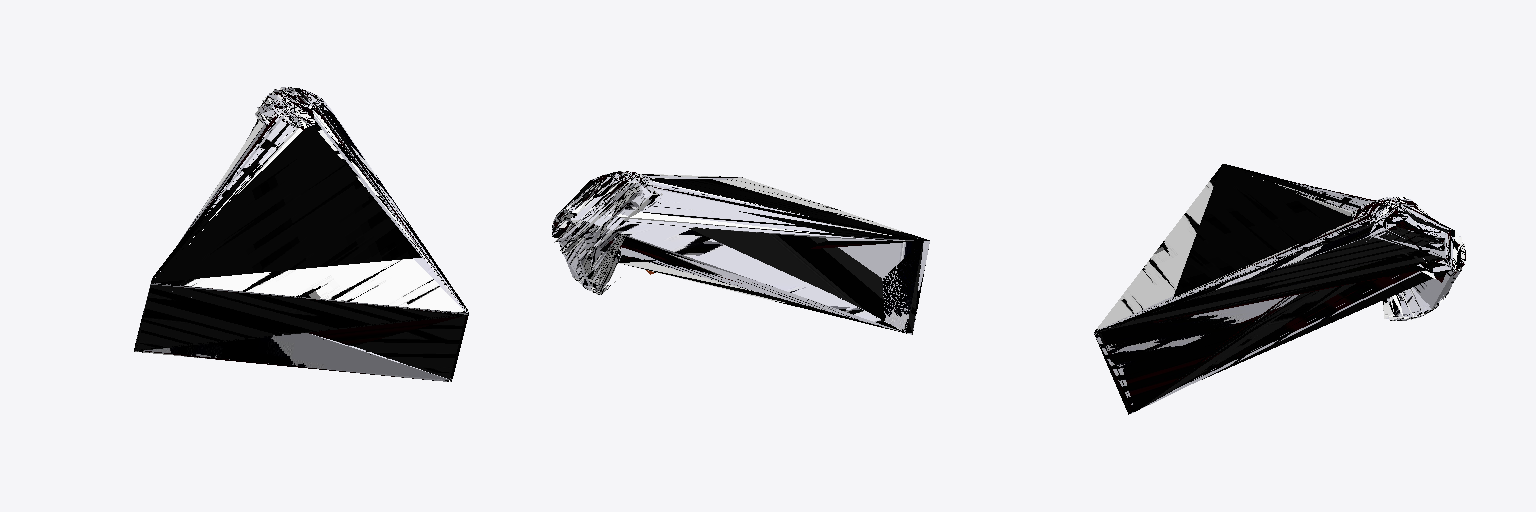
3 views of the same model, side by side, from view 1: azimuth 30°, elevation 25°; view 2: azimuth 150°, elevation 25°; view 3: azimuth 270°, elevation 25° (orthographic).
Parts seen in each view (by area): view 1: TI_cell, TI_GUN, TI_HATCH, TI_BODY, TI_pyron, TI_WINDOW; view 2: TI_pyron, TI_GUN, TI_HATCH, TI_BODY, TI_cell, TI_WINDOW; view 3: TI_cell, TI_GUN, TI_WINDOW, TI_BODY, TI_HATCH, TI_pyron.
Part boxes in pixels (x1,y1,x2,y2): TI_cell: (151,87,467,381); TI_GUN: (134,87,468,381); TI_HATCH: (135,87,466,381); TI_BODY: (135,87,468,381); TI_pyron: (155,87,467,379); TI_WINDOW: (135,88,468,380); TI_pyron: (552,172,917,334); TI_GUN: (556,171,929,334); TI_HATCH: (553,171,928,333); TI_BODY: (553,174,929,332); TI_cell: (552,172,926,317); TI_WINDOW: (552,171,916,332); TI_cell: (1096,164,1452,411); TI_GUN: (1095,164,1450,414); TI_WINDOW: (1098,182,1465,411); TI_BODY: (1094,203,1450,413); TI_HATCH: (1095,165,1464,401); TI_pyron: (1094,182,1464,407).
Bounding box in the file's own units: 219 × 157 × 265.
Materials: 13 (11 with a texture image).